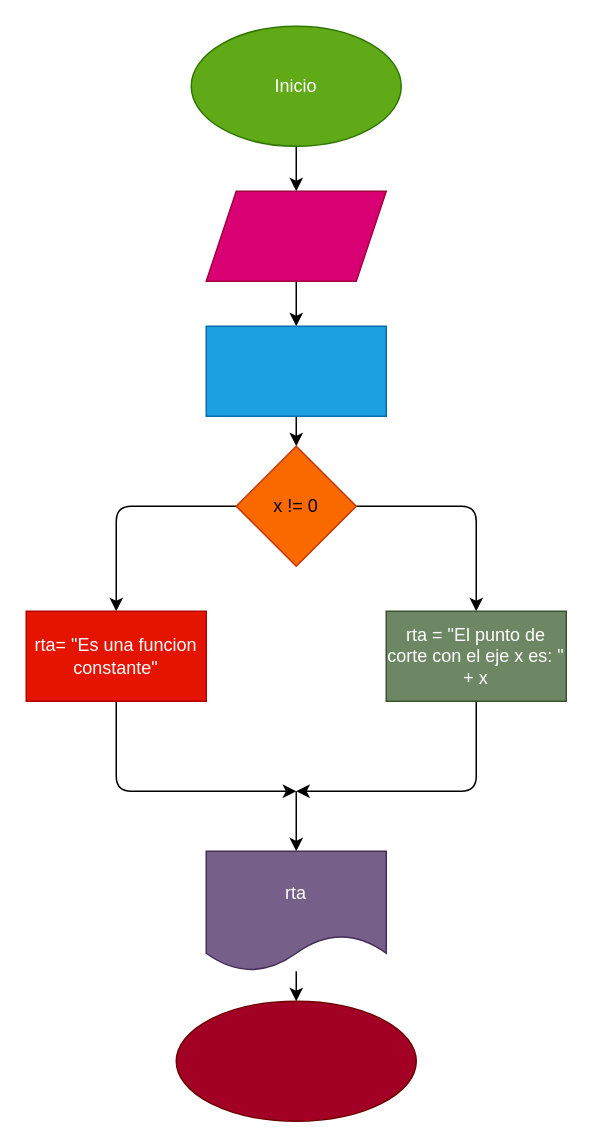
The diagram is 593 pixels wide and 1148 high, and some of its shapes have lost their labels. Each missing label, with the centre of its shape:
"a, b" belongs at [295,235].
"Fin" belongs at [295,1060].
"x = -b/a" belongs at [295,370].
